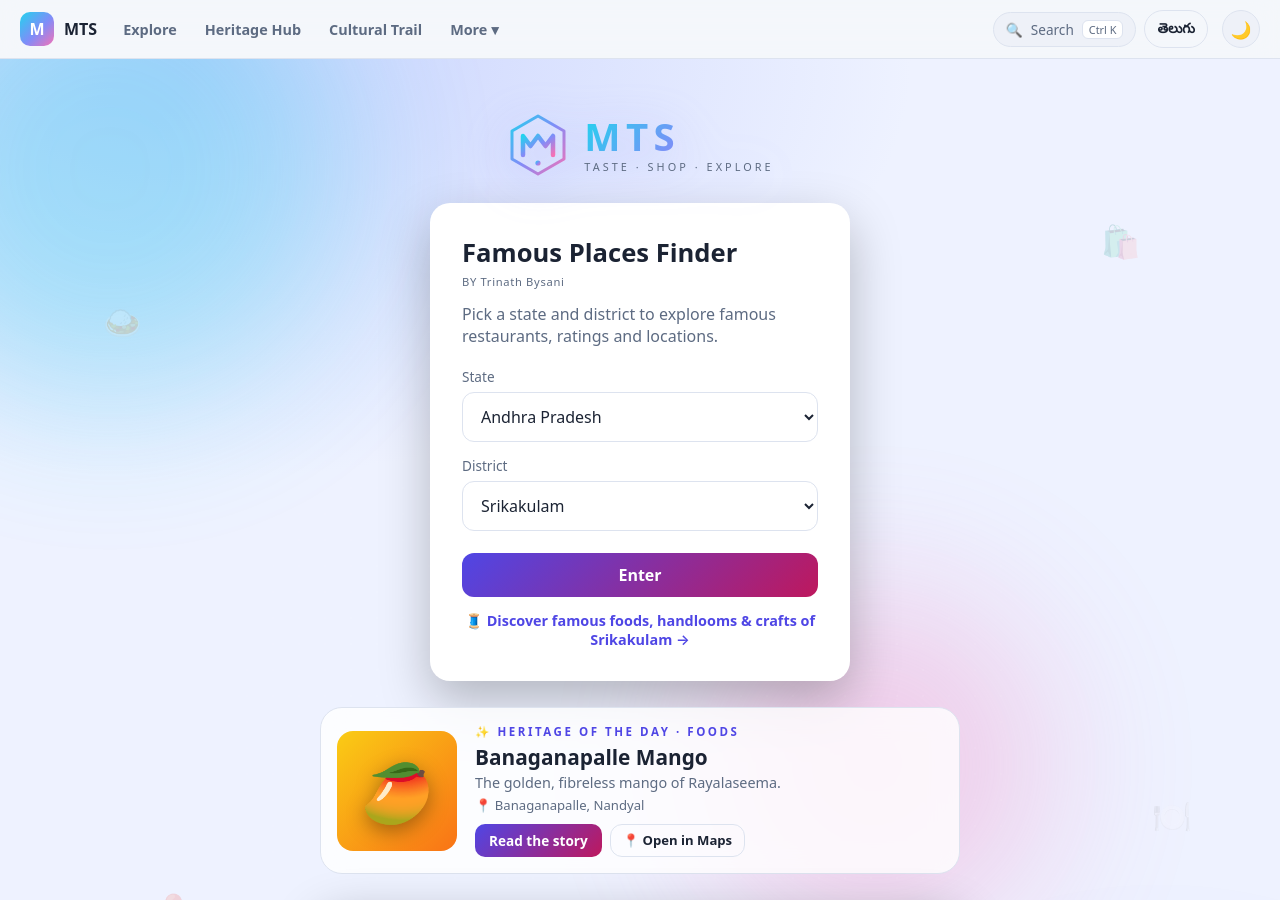
Test: new pages render › shows the More menu and opens search with Ctrl+K
The image size is (1280, 900).
Step 1. Click the button "More ▾" → [474, 29], box [438, 12, 510, 46]
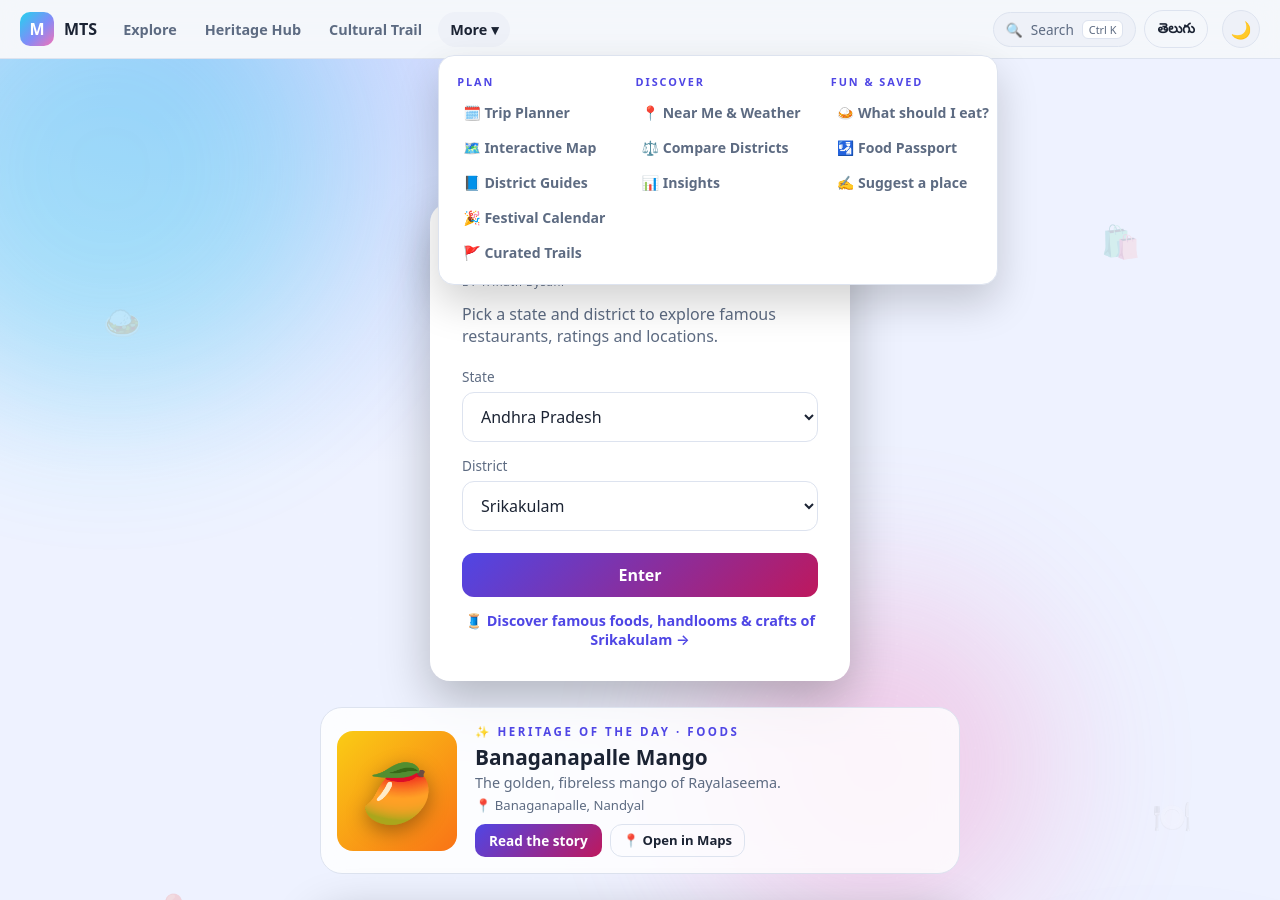
Check: the menu item "🗓️ Trip Planner" is shown, box [463, 102, 570, 122]
Step 2. Press k
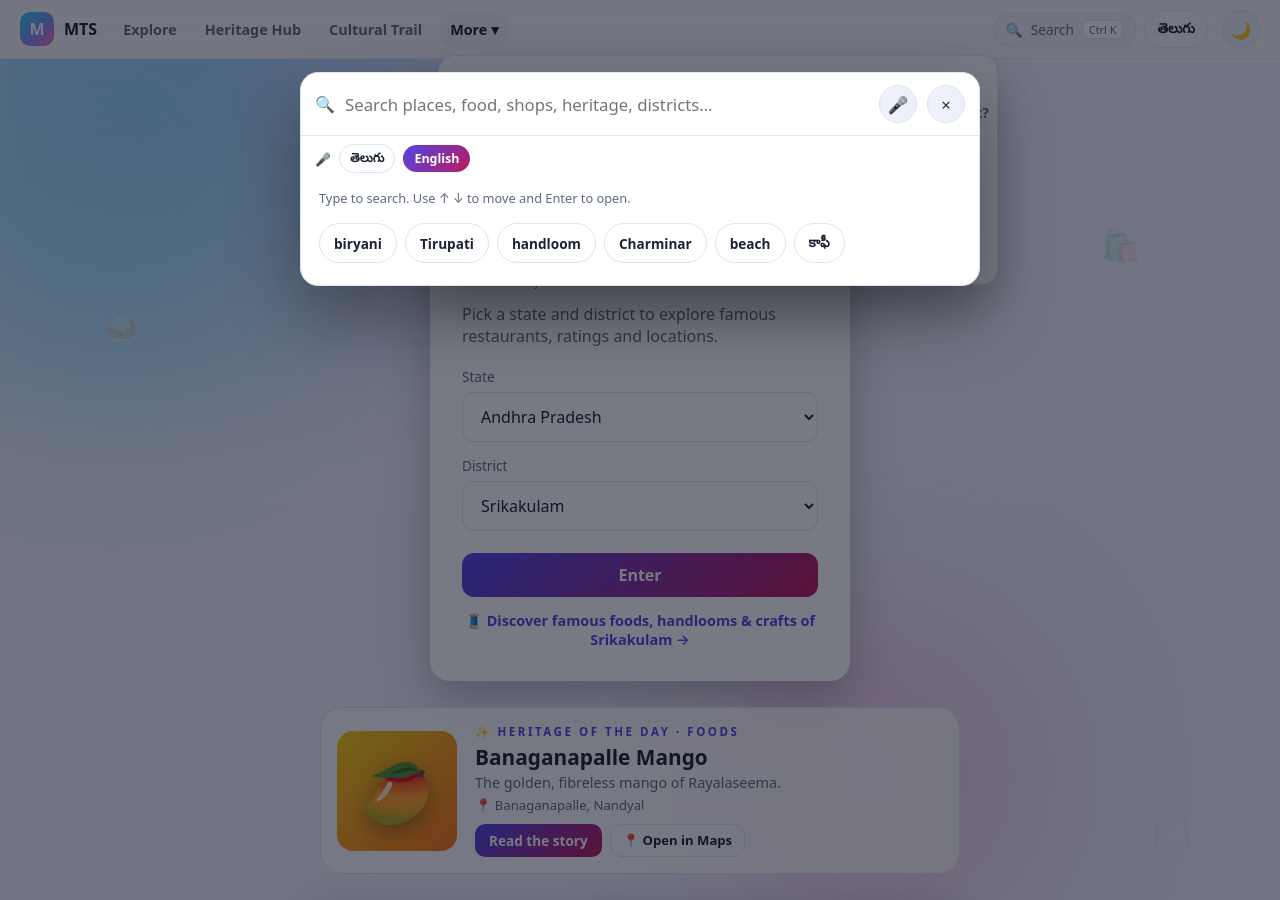
Check: the dropdown labelled "Search" is shown, box [345, 92, 869, 116]
